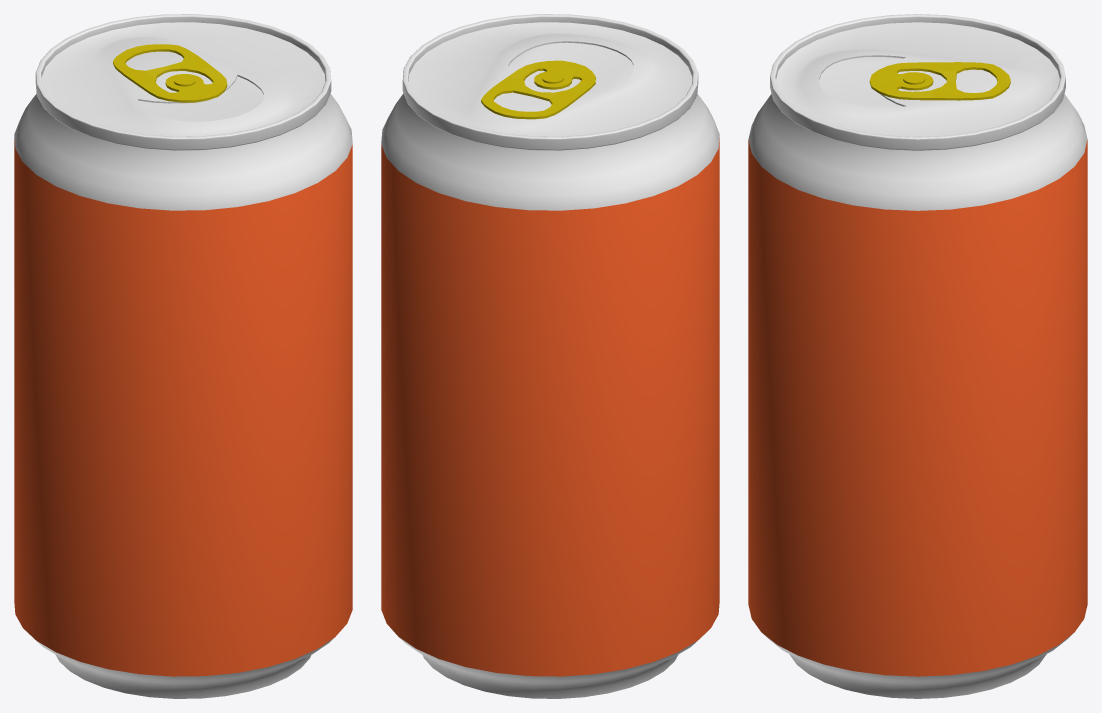
Rendered from uploads_files_5144710_Can.fbx.
3 renders of one model, left to right at view 1: azimuth 30°, elevation 25°; view 2: azimuth 150°, elevation 25°; view 3: azimuth 270°, elevation 25°, orthographic.
Parts seen in each view (by area): view 1: Cube; view 2: Cube; view 3: Cube.
Boxes of the visible parts, x1,y1,x2,y2 form: Cube: [14, 14, 352, 698]; Cube: [381, 14, 719, 698]; Cube: [748, 14, 1087, 698].
Bounding box in the file's own units: 16.13 × 29.77 × 16.13.
